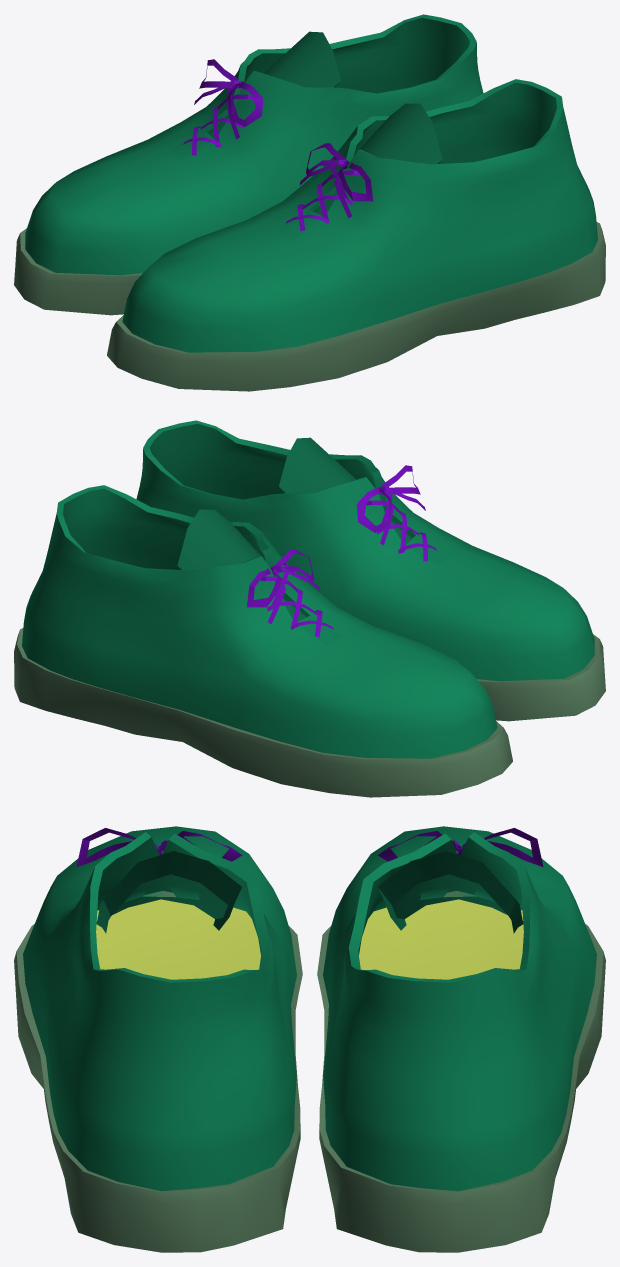
The model's file is model_ppe_boots.fbx.
The picture shows the model from 3 angles, top to bottom: view 1: azimuth 30°, elevation 25°; view 2: azimuth 150°, elevation 25°; view 3: azimuth 270°, elevation 25°; orthographic projection. The views are drawn at different scales.
Parts seen in each view (by area): view 1: ppe_boots; view 2: ppe_boots; view 3: ppe_boots.
Part boxes in pixels (bbox=[...]): ppe_boots: bbox=[14, 14, 605, 391]; ppe_boots: bbox=[14, 420, 605, 797]; ppe_boots: bbox=[14, 826, 605, 1252].
Size of the model in its own units: 32.83 by 13.45 by 25.21.
